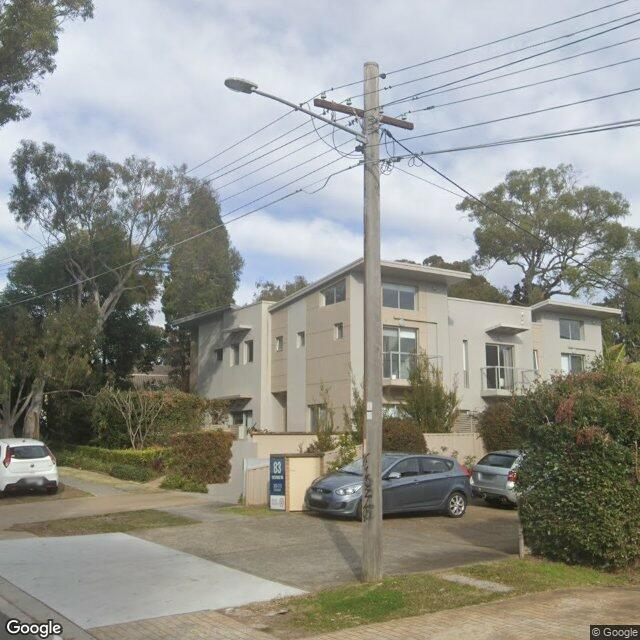crossarm: (314, 99, 414, 131)
streetlight: (224, 76, 368, 143)
timber-pole: (363, 61, 383, 584)
